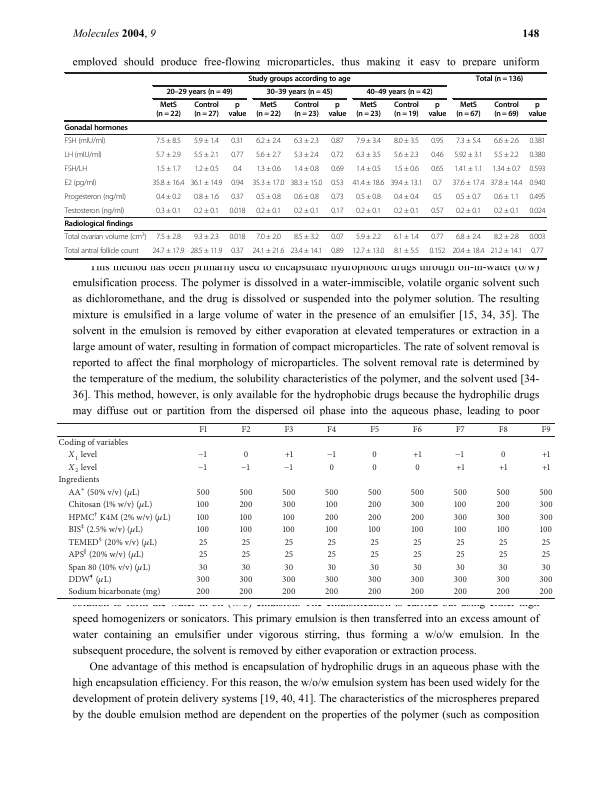borderless: (63, 71, 546, 258), (55, 421, 555, 598)
cell: (67, 508, 172, 525), (67, 534, 158, 550), (67, 497, 153, 512), (67, 559, 152, 574), (67, 546, 145, 562), (67, 521, 144, 537), (67, 484, 141, 500), (67, 587, 161, 598), (247, 75, 351, 84), (64, 231, 147, 242), (67, 571, 113, 587), (57, 438, 129, 448), (265, 88, 334, 98), (64, 247, 140, 256), (165, 88, 233, 98), (365, 88, 433, 98), (64, 123, 129, 133), (64, 192, 127, 202), (64, 220, 134, 229), (64, 206, 125, 216), (67, 459, 98, 476), (155, 101, 182, 120), (193, 101, 220, 120), (255, 101, 282, 120), (293, 101, 320, 120), (355, 101, 382, 120), (393, 101, 420, 120), (455, 101, 482, 120), (493, 101, 520, 120), (67, 447, 98, 463), (57, 475, 100, 486), (475, 75, 524, 84), (64, 136, 106, 146), (64, 150, 103, 160), (327, 101, 347, 120), (427, 101, 447, 120), (527, 101, 547, 120), (228, 101, 247, 120), (151, 178, 185, 188), (189, 178, 223, 188), (251, 178, 285, 188), (289, 178, 323, 188), (351, 178, 385, 188), (389, 178, 423, 188), (451, 178, 485, 188), (489, 178, 523, 188), (64, 178, 97, 188), (453, 164, 484, 174), (491, 164, 522, 174), (151, 247, 185, 256), (189, 247, 223, 256), (251, 247, 285, 256), (289, 247, 323, 256), (351, 247, 385, 256), (451, 247, 485, 256), (489, 247, 523, 256), (453, 150, 483, 160), (155, 136, 182, 146), (193, 136, 220, 146), (255, 136, 282, 146), (293, 136, 320, 146), (355, 136, 382, 146), (393, 136, 420, 146), (455, 136, 482, 146), (493, 136, 520, 146), (155, 150, 182, 160), (193, 150, 220, 160), (255, 150, 282, 160), (293, 150, 320, 160), (355, 150, 382, 160), (393, 150, 420, 160), (493, 150, 520, 160), (155, 164, 182, 174), (193, 164, 220, 174), (255, 164, 282, 174), (293, 164, 320, 174), (355, 164, 382, 174), (393, 164, 420, 174), (155, 192, 182, 202), (193, 192, 220, 202), (255, 192, 282, 202), (293, 192, 320, 202), (355, 192, 382, 202), (393, 192, 420, 202), (455, 192, 482, 202), (493, 192, 520, 202), (155, 206, 182, 216), (193, 206, 220, 216), (255, 206, 282, 216), (293, 206, 320, 216), (355, 206, 382, 216), (393, 206, 420, 216), (455, 206, 482, 216), (493, 206, 520, 216), (155, 233, 182, 242), (193, 233, 220, 242), (255, 233, 282, 242), (293, 233, 320, 242), (355, 233, 382, 242), (393, 233, 420, 242), (455, 233, 482, 242), (493, 233, 520, 242), (393, 247, 420, 256), (64, 164, 88, 174), (197, 459, 209, 475), (240, 459, 252, 475), (283, 459, 295, 475), (528, 136, 546, 146), (528, 150, 546, 160), (528, 164, 546, 174), (528, 178, 546, 188), (528, 192, 546, 202), (228, 206, 246, 216), (528, 206, 546, 216), (197, 447, 209, 462), (326, 447, 338, 462), (238, 500, 254, 511), (238, 587, 254, 598), (455, 447, 466, 462), (281, 500, 296, 511), (367, 500, 382, 511), (410, 500, 425, 511), (496, 500, 511, 511), (539, 500, 554, 511), (324, 512, 339, 523), (367, 512, 382, 523), (410, 512, 425, 523), (453, 512, 468, 523), (496, 512, 511, 523), (539, 512, 554, 523), (196, 587, 211, 598), (281, 587, 296, 598), (324, 587, 339, 598), (367, 587, 382, 598), (410, 587, 425, 598), (453, 587, 468, 598), (496, 587, 511, 598), (539, 587, 554, 598), (228, 233, 246, 242), (528, 233, 546, 242), (428, 247, 446, 256), (238, 488, 254, 498), (238, 575, 254, 585), (196, 500, 210, 511), (325, 500, 339, 511), (453, 500, 467, 511), (196, 512, 210, 523), (239, 512, 253, 523), (282, 512, 296, 523), (196, 525, 210, 536), (239, 525, 253, 536), (282, 525, 296, 536), (325, 525, 339, 536), (368, 525, 382, 536), (410, 525, 424, 536), (453, 525, 467, 536), (496, 525, 510, 536), (539, 525, 553, 536), (230, 136, 245, 146), (330, 136, 345, 146), (330, 164, 345, 174), (430, 164, 445, 174), (330, 178, 345, 188), (230, 192, 245, 202), (330, 192, 345, 202), (330, 206, 345, 216), (196, 488, 211, 498), (281, 488, 296, 498), (324, 488, 339, 498), (367, 488, 382, 498), (410, 488, 425, 498), (453, 488, 468, 498), (496, 488, 511, 498), (539, 488, 554, 498), (196, 575, 211, 585), (281, 575, 296, 585), (324, 575, 339, 585), (367, 575, 382, 585), (410, 575, 425, 585), (453, 575, 468, 585), (496, 575, 511, 585), (539, 575, 554, 585), (430, 136, 444, 146), (230, 150, 244, 160), (330, 150, 344, 160), (430, 150, 444, 160), (230, 178, 244, 188), (430, 206, 444, 216), (330, 233, 345, 242), (330, 247, 345, 256), (430, 233, 444, 242), (230, 247, 244, 256), (530, 247, 544, 256), (283, 425, 294, 436), (326, 425, 337, 436), (369, 425, 380, 436), (412, 425, 423, 436), (455, 425, 466, 436), (498, 425, 509, 436), (541, 425, 552, 436), (412, 450, 423, 461), (369, 537, 380, 548), (412, 537, 423, 548), (455, 537, 466, 548), (326, 562, 337, 573), (369, 562, 380, 573), (412, 562, 423, 573), (455, 562, 466, 573), (232, 164, 243, 174), (432, 178, 443, 188), (432, 192, 443, 202), (198, 425, 208, 436), (241, 425, 251, 436), (284, 450, 294, 461), (541, 450, 551, 461), (198, 537, 208, 548), (241, 537, 251, 548), (284, 537, 294, 548), (327, 537, 337, 548), (498, 537, 508, 548), (541, 537, 551, 548), (369, 550, 380, 560), (412, 550, 423, 560), (455, 550, 466, 560), (198, 562, 208, 573), (241, 562, 251, 573), (284, 562, 294, 573), (498, 562, 508, 573), (541, 562, 551, 573), (455, 463, 465, 473), (498, 463, 508, 473), (541, 463, 551, 473), (198, 550, 208, 560), (241, 550, 251, 560), (284, 550, 294, 560), (327, 550, 337, 560), (498, 550, 508, 560), (541, 550, 551, 560), (371, 450, 378, 461), (371, 463, 378, 473), (414, 463, 421, 473), (243, 450, 249, 461), (500, 450, 506, 461), (329, 463, 335, 473)
